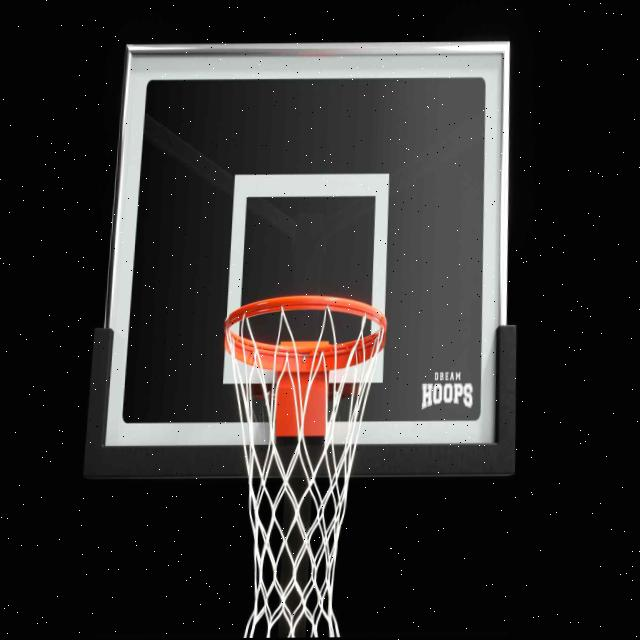hoop: (211, 294, 389, 638)
